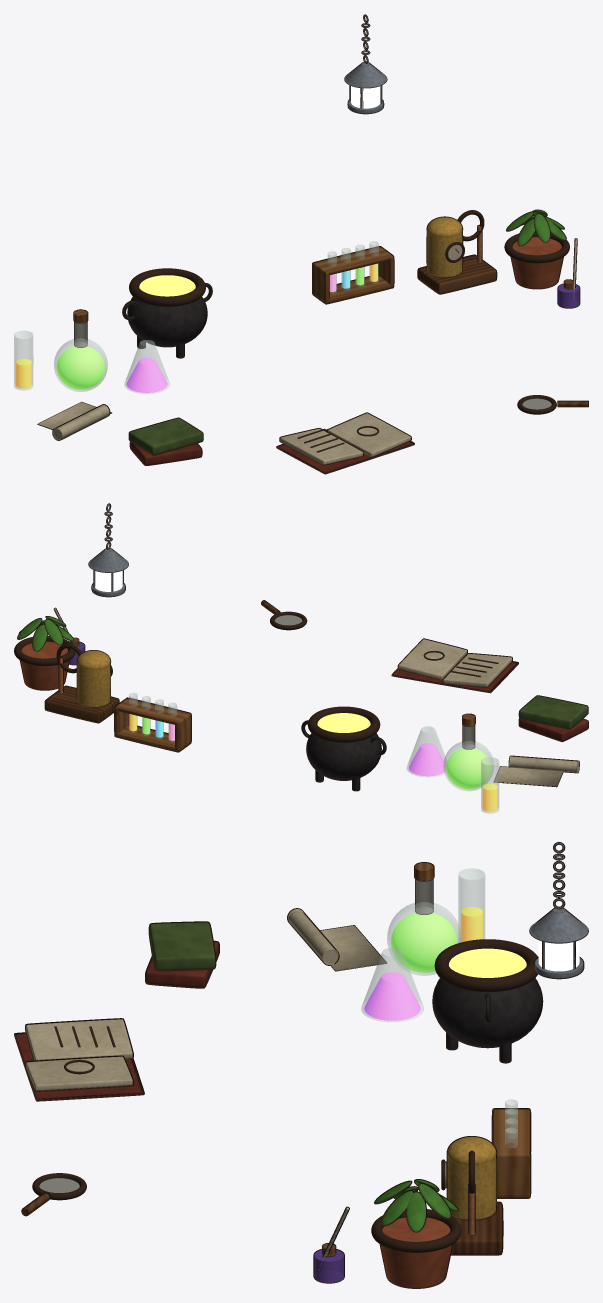
The model's file is Lab_DeskItems.fbx.
3 views of the same model, one above another, from view 1: azimuth 30°, elevation 25°; view 2: azimuth 150°, elevation 25°; view 3: azimuth 270°, elevation 25° (orthographic). The views are drawn at different scales.
Visible parts, largest first — view 1: Item_OpenBook, Item_Cauldron, Item_BrassApparatus, Item_TestTubeRack, Item_PottedPlant, Item_RoundFlask_Glass, Item_Cauldron_Outline, Item_RoundFlask, Item_DeskBook1, Item_Lantern, Item_Erlen_Glass, Item_Scroll (+8 smaller); view 2: Item_OpenBook, Item_Cauldron, Item_BrassApparatus, Item_TestTubeRack, Item_PottedPlant, Item_RoundFlask_Glass, Item_Scroll, Item_Cauldron_Outline, Item_RoundFlask, Item_Lantern, Item_DeskBook1, Item_Erlen_Glass (+11 smaller); view 3: Item_OpenBook, Item_Cauldron, Item_PottedPlant, Item_BrassApparatus, Item_RoundFlask_Glass, Item_Cauldron_Outline, Item_Lantern, Item_RoundFlask, Item_Erlen_Glass, Item_TestTubeRack, Item_DeskBook1, Item_Scroll (+12 smaller).
Part boxes in pixels (x1,y1,x2,y2): Item_OpenBook: (277,413,413,472); Item_Cauldron: (123,275,211,357); Item_BrassApparatus: (418,217,496,293); Item_TestTubeRack: (312,247,393,303); Item_PottedPlant: (506,210,565,288); Item_RoundFlask_Glass: (54,322,107,391); Item_Cauldron_Outline: (122,268,212,358); Item_RoundFlask: (56,310,104,389); Item_DeskBook1: (129,418,202,454); Item_Lantern: (344,15,386,113); Item_Erlen_Glass: (124,340,169,393); Item_Scroll: (38,402,111,440); Item_OpenBook: (393,639,517,691); Item_Cauldron: (302,713,385,790); Item_BrassApparatus: (45,650,118,722); Item_TestTubeRack: (114,698,191,751); Item_PottedPlant: (17,616,73,689); Item_RoundFlask_Glass: (443,726,493,791); Item_Scroll: (494,756,579,786); Item_Cauldron_Outline: (301,706,386,791); Item_RoundFlask: (446,714,491,789); Item_Lantern: (88,504,128,596); Item_DeskBook1: (519,696,587,728); Item_Erlen_Glass: (406,726,446,777); Item_OpenBook: (15,1019,143,1099); Item_Cauldron: (433,948,541,1062); Item_PottedPlant: (375,1180,457,1287); Item_BrassApparatus: (445,1136,502,1254); Item_RoundFlask_Glass: (387,880,461,975); Item_Cauldron_Outline: (432,939,543,1063); Item_Lantern: (529,843,588,978); Item_RoundFlask: (391,862,457,972); Item_Erlen_Glass: (361,947,423,1022); Item_TestTubeRack: (492,1109,530,1197); Item_DeskBook1: (149,922,215,970); Item_Scroll: (288,909,385,970).
Bounding box in the file's own units: 11.12 × 4.97 × 7.25.
